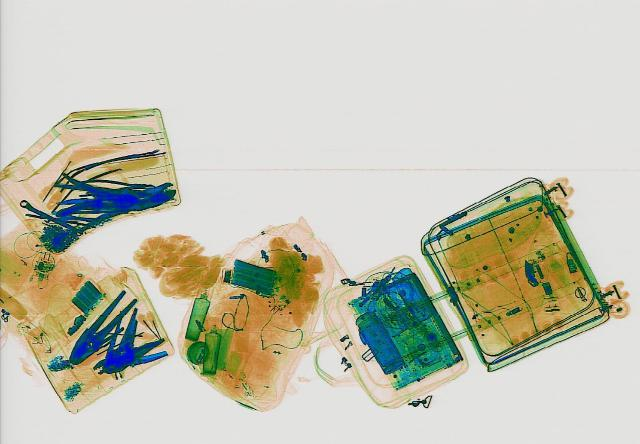Wrench: (14, 197, 86, 235)
